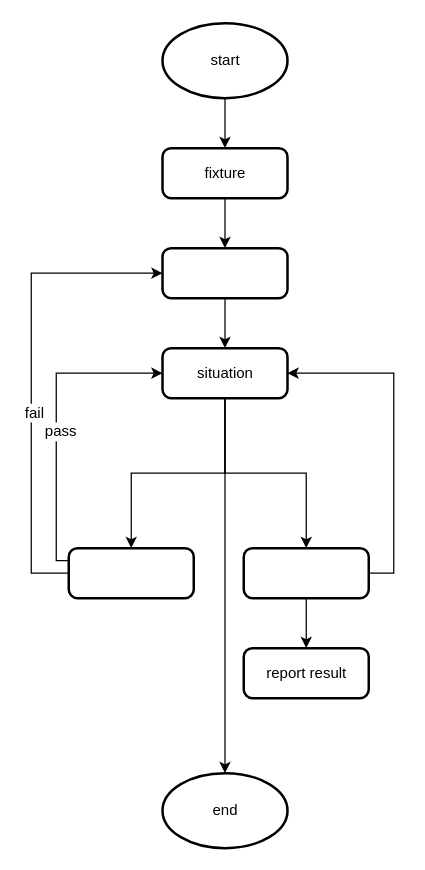
The diagram is 425 pixels wide and 870 high, and some of its shapes have lost their labels. Each missing label, with the box of its shape:
expect: (242, 546, 369, 599)
init: (161, 246, 288, 299)
step: (67, 546, 194, 599)
